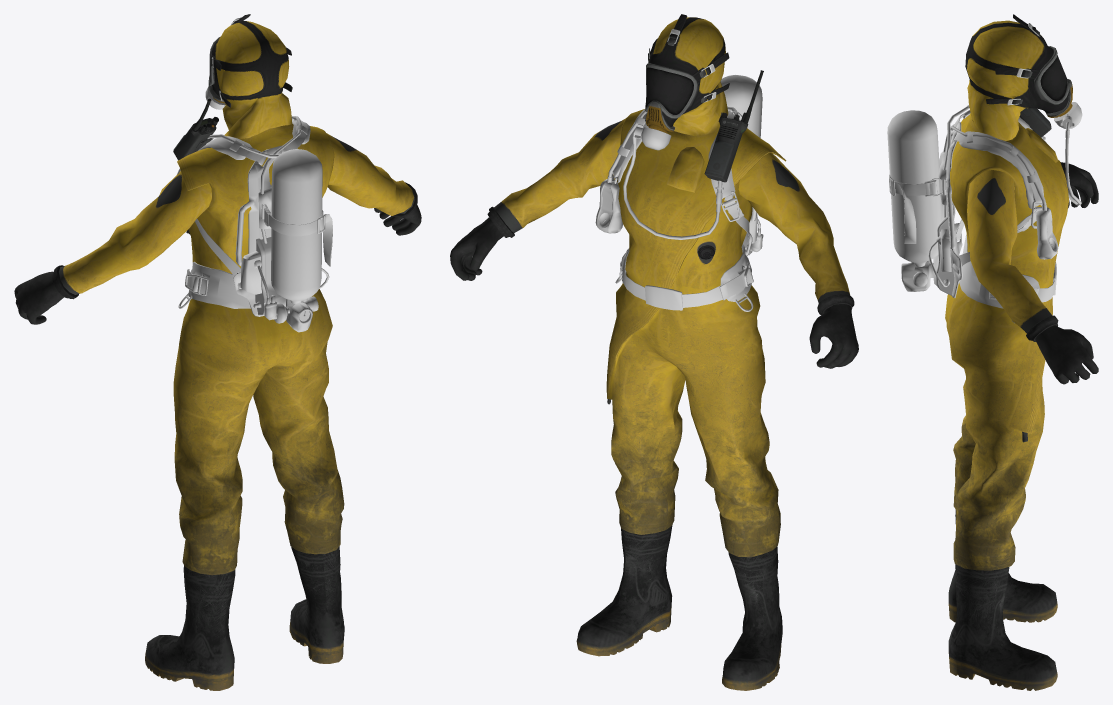
Rendered from Hazmat_F.obj.
3 renders of one model, left to right at view 1: azimuth 30°, elevation 25°; view 2: azimuth 150°, elevation 25°; view 3: azimuth 270°, elevation 25°, orthographic.
Visible parts, largest first — view 1: 1_Suit, 3_Gear_Pack, 4_Gloves, 3_Harness, 3_Belt, 4_Radio; view 2: 1_Suit, 4_Gloves, 3_Belt, 3_Harness, 3_Gear_Pack, 4_Radio, 1_Gasmask_Visor, 3_Gear, 2_Tube_outfit, 1_Gasmask_Front; view 3: 1_Suit, 3_Gear_Pack, 4_Gloves, 3_Harness, 3_Belt, 3_Gear, 1_Gasmask_Visor, 4_Radio, 1_Gasmask_Front, 2_Tube_outfit.
Part boxes in pixels (bbox=[...]): 1_Suit: bbox=[52, 14, 417, 690]; 3_Gear_Pack: bbox=[233, 145, 332, 332]; 4_Gloves: bbox=[14, 204, 421, 324]; 3_Harness: bbox=[177, 116, 310, 288]; 3_Belt: bbox=[178, 261, 250, 308]; 4_Radio: bbox=[173, 98, 218, 160]; 1_Suit: bbox=[487, 14, 854, 690]; 4_Gloves: bbox=[450, 217, 858, 368]; 3_Belt: bbox=[615, 244, 753, 311]; 3_Harness: bbox=[607, 107, 749, 248]; 3_Gear_Pack: bbox=[720, 75, 763, 255]; 4_Radio: bbox=[704, 70, 763, 182]; 1_Gasmask_Visor: bbox=[646, 67, 693, 114]; 3_Gear: bbox=[595, 179, 622, 233]; 2_Tube_outfit: bbox=[623, 130, 719, 239]; 1_Gasmask_Front: bbox=[634, 124, 671, 150]; 1_Suit: bbox=[945, 14, 1072, 690]; 3_Gear_Pack: bbox=[887, 110, 962, 297]; 4_Gloves: bbox=[1035, 162, 1098, 384]; 3_Harness: bbox=[943, 105, 1046, 274]; 3_Belt: bbox=[959, 235, 1056, 323]; 3_Gear: bbox=[1036, 207, 1058, 259]; 1_Gasmask_Visor: bbox=[1040, 55, 1067, 100]; 4_Radio: bbox=[1019, 108, 1051, 137]; 1_Gasmask_Front: bbox=[1054, 102, 1082, 128]; 2_Tube_outfit: bbox=[1065, 122, 1081, 205].
Bounding box in the file's own units: 87.75 × 135 × 40.84.
